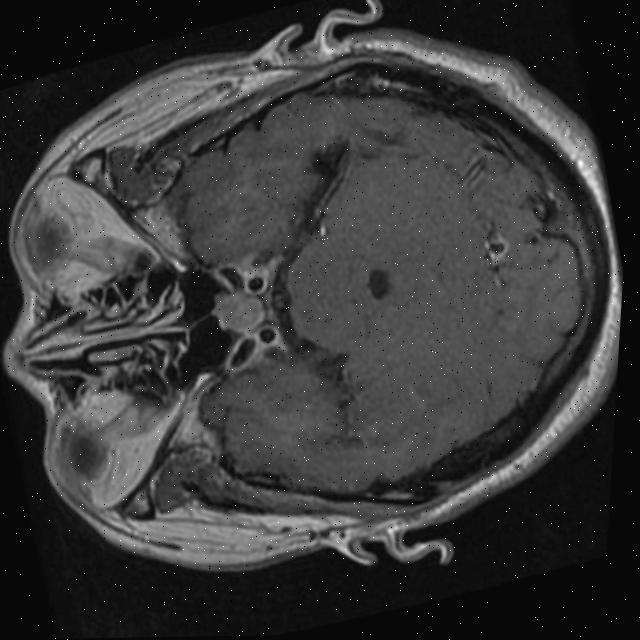Pituitary: (205, 284, 270, 339)
